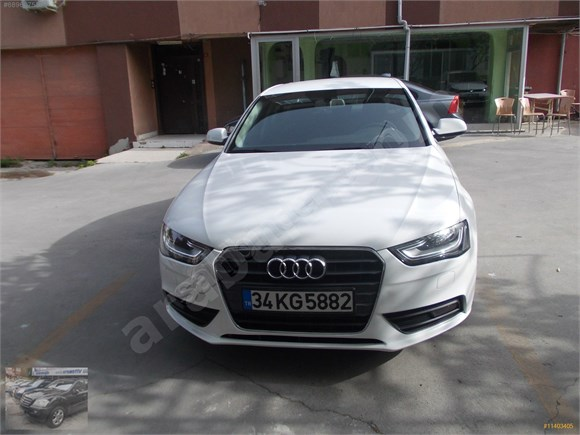audi: (261, 254, 334, 284)
